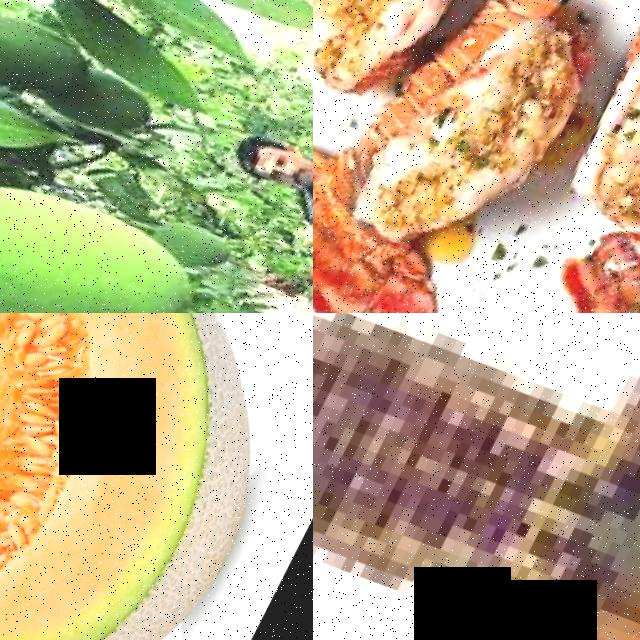lobster tails: (313, 313, 640, 640), (313, 0, 621, 313), (313, 0, 594, 128), (523, 0, 640, 242)
mango: (0, 130, 227, 313), (0, 0, 105, 122)
melon: (0, 313, 313, 640)
